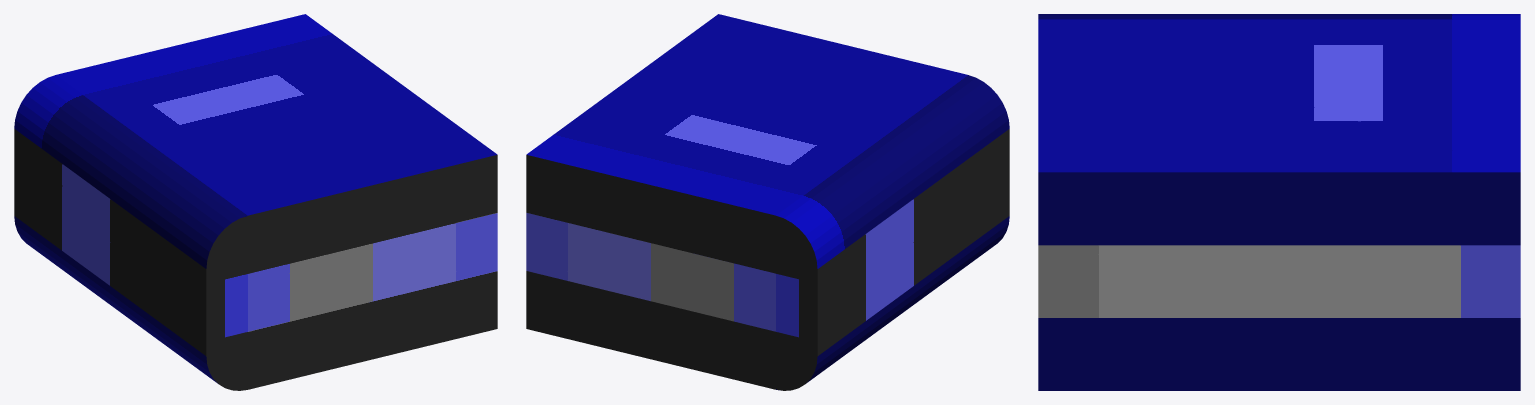
The model's file is book_642x16.obj.
3 views of the same model, side by side, from view 1: azimuth 30°, elevation 25°; view 2: azimuth 150°, elevation 25°; view 3: azimuth 270°, elevation 25° (orthographic). The views are drawn at different scales.
Visible parts, largest first — view 1: Cube.001; view 2: Cube.001; view 3: Cube.001.
Boxes of the visible parts, x1=… form: Cube.001: x1=14, y1=14, x2=497, y2=390; Cube.001: x1=526, y1=14, x2=1009, y2=390; Cube.001: x1=1038, y1=14, x2=1520, y2=390.
Size of the model in its own units: 0.875 by 0.5 by 1.
